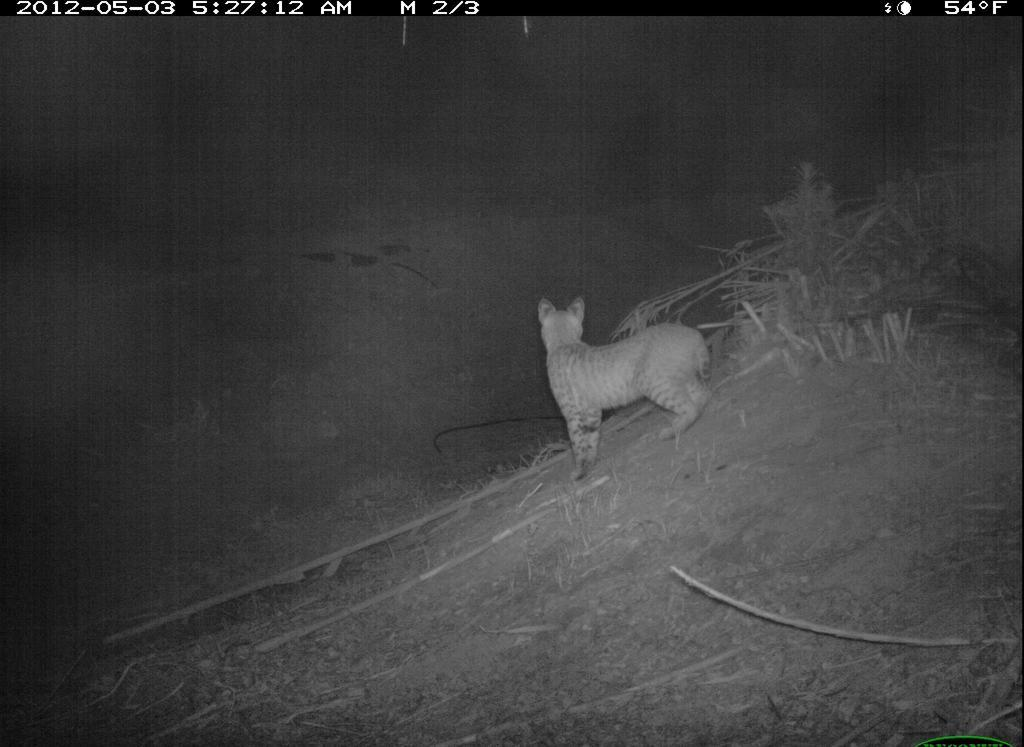bobcat: (530, 286, 720, 492)
